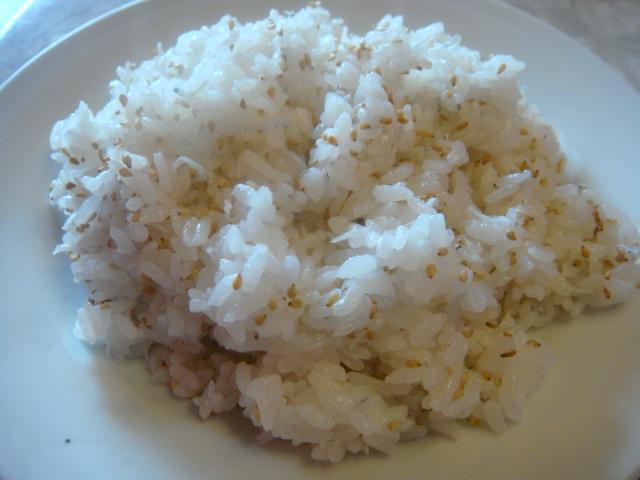rice: (50, 4, 639, 461)
